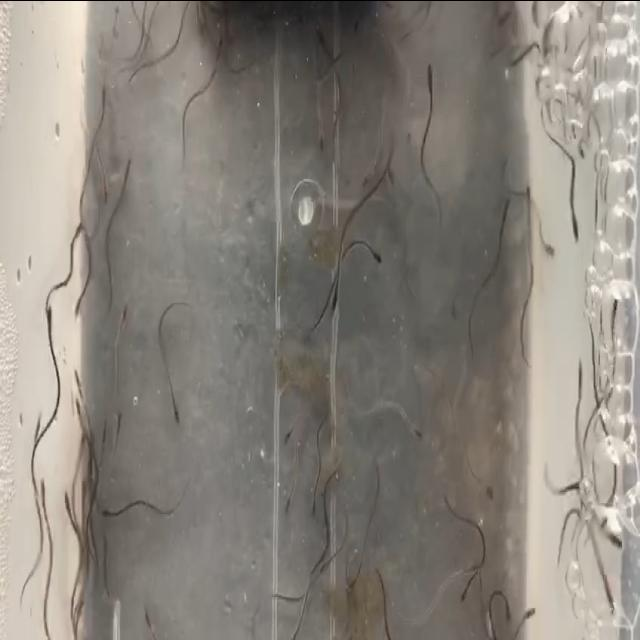active_glass_eel: (168, 382, 188, 454), (31, 468, 55, 526), (324, 286, 348, 332), (37, 300, 63, 342), (567, 199, 587, 250), (115, 286, 136, 334), (371, 229, 388, 281), (419, 54, 441, 94), (573, 342, 588, 398), (481, 467, 499, 512), (610, 287, 624, 337), (499, 178, 516, 218), (69, 363, 97, 387), (454, 577, 472, 614), (70, 290, 88, 326), (408, 412, 426, 448), (108, 402, 127, 436), (315, 13, 331, 51), (602, 584, 620, 616), (212, 26, 226, 66), (100, 492, 115, 529), (280, 411, 296, 445), (78, 462, 90, 507), (310, 479, 322, 522), (522, 176, 538, 208), (62, 478, 76, 514), (73, 388, 83, 436), (122, 146, 138, 176), (100, 171, 114, 205), (142, 596, 156, 626), (386, 159, 401, 187), (546, 228, 560, 258), (610, 522, 626, 548), (503, 592, 515, 626), (282, 492, 295, 522)
